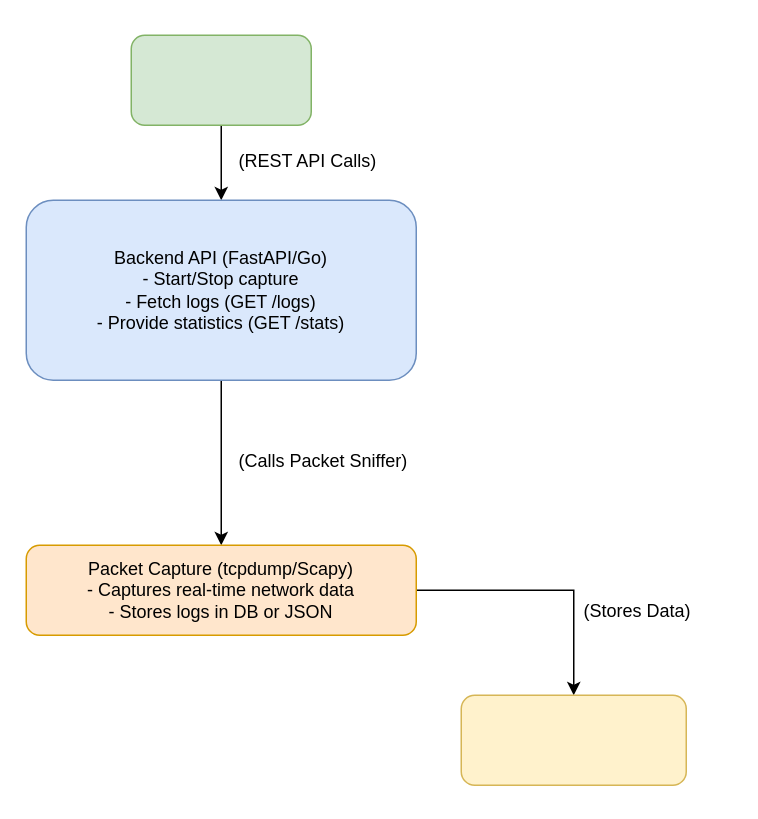
Image size: 758x819. Some labels were removed from this diagram. The centre of each missing label's shape, as x and y in pixels:
Database (PostgreSQL/MongoDB): (573,739)
User Requests (Frontend/Web UI): (220,79)
